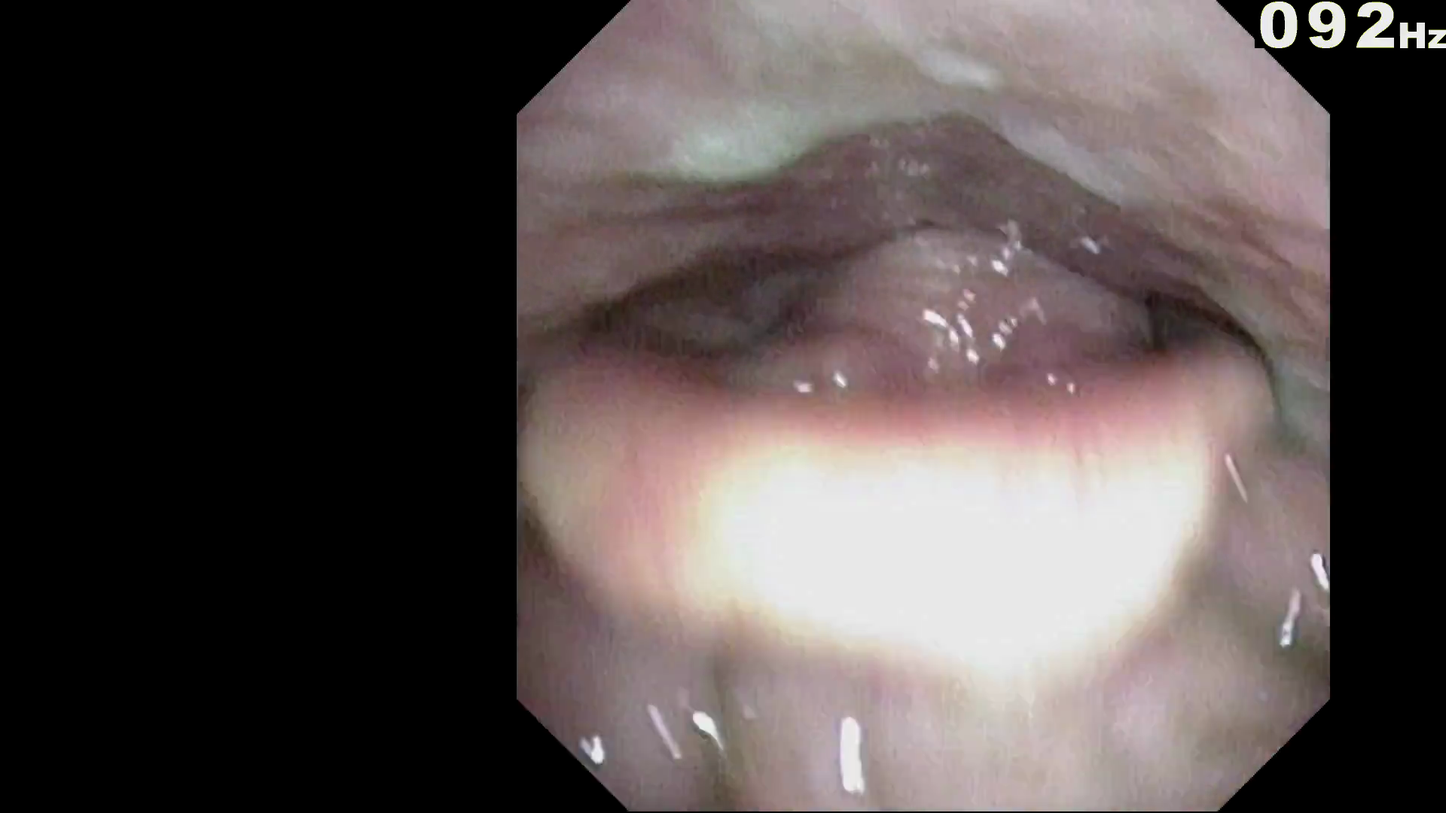epiglottis: (615, 327, 1227, 535)
